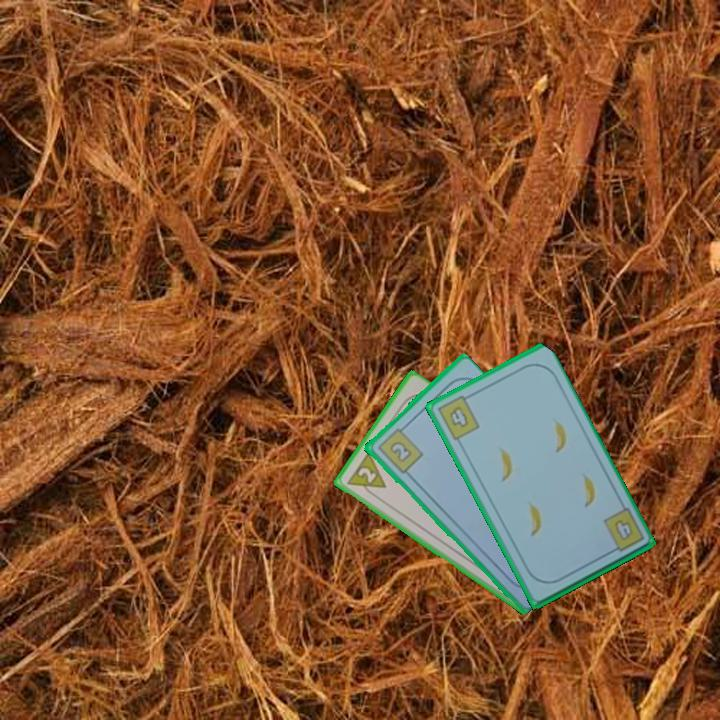2b: (373, 422, 425, 476)
2p: (343, 449, 389, 502)
4b: (434, 391, 482, 444), (599, 505, 647, 557)
